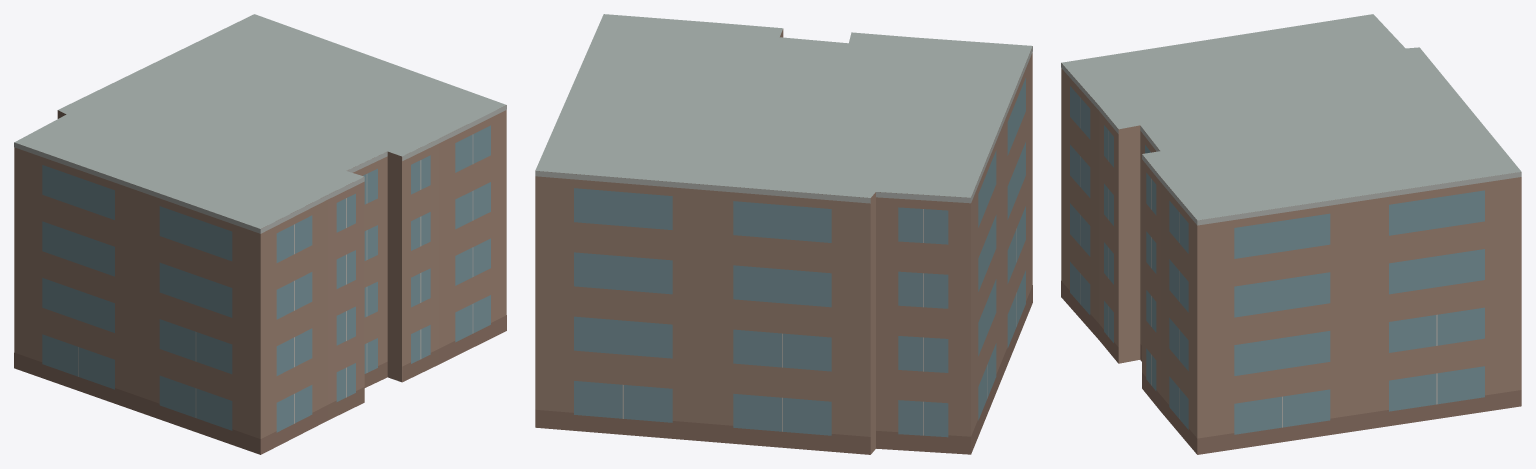
The model's file is survey-upis-32882663.glb.
3 views of the same model, side by side, from view 1: azimuth 30°, elevation 25°; view 2: azimuth 150°, elevation 25°; view 3: azimuth 270°, elevation 25° (orthographic). The views are drawn at different scales.
Parts seen in each view (by area): view 1: survey-upis-32882663.tmp; view 2: survey-upis-32882663.tmp; view 3: survey-upis-32882663.tmp.
Part boxes in pixels (x1,y1,x2,y2): survey-upis-32882663.tmp: (14,14,506,454); survey-upis-32882663.tmp: (535,14,1032,454); survey-upis-32882663.tmp: (1061,14,1521,454).
Size of the model in its own units: 21.36 by 11.3 by 20.13.
